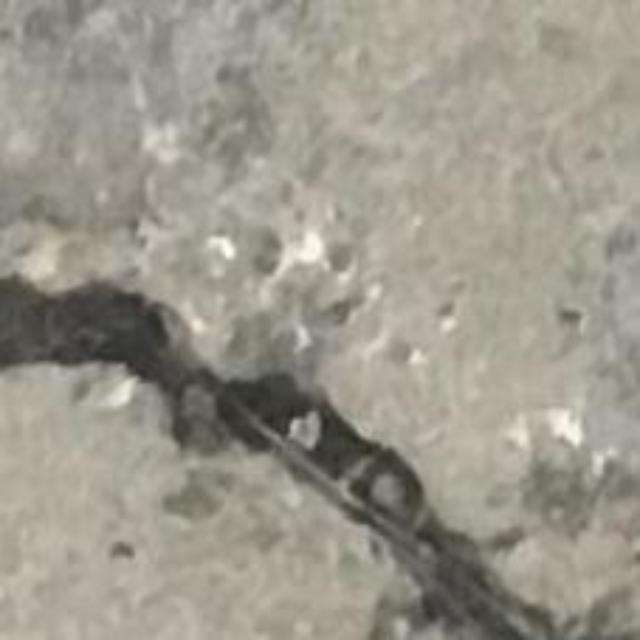crack: (0, 277, 566, 639)
